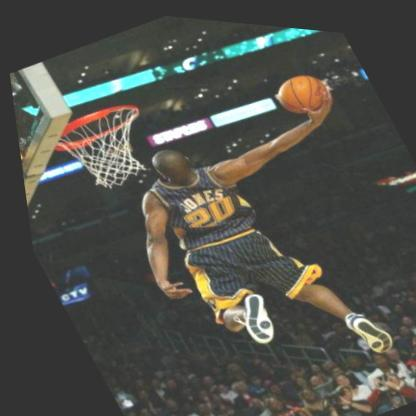basketball: (266, 58, 335, 118)
rim: (41, 88, 168, 200)
